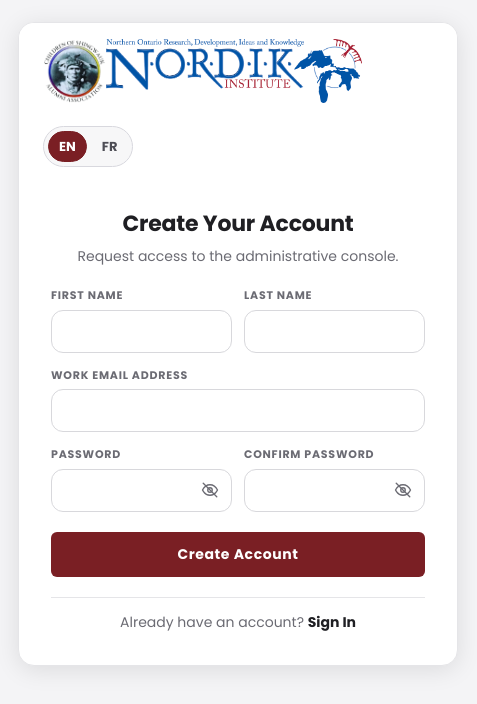
Test: SignupPage › shows field error when passwords do not match
Type "Jane" into the field labelled "First Name" at (142, 331), box 52,311 -> 231,352
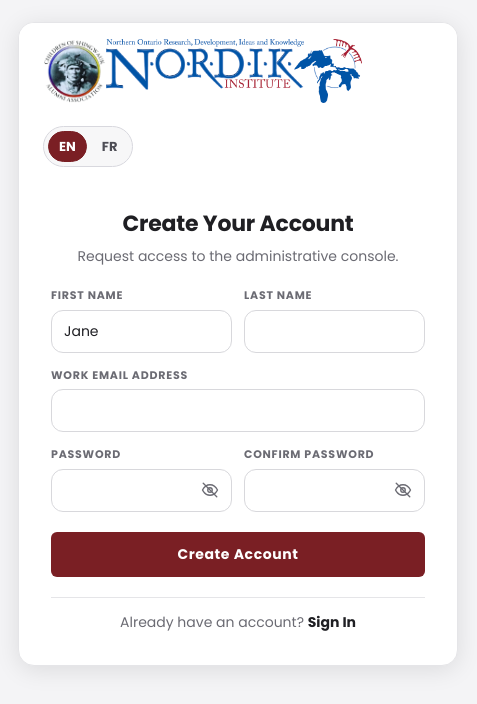
Type "Doe" into the field labelled "Last Name" at (334, 331), box 245,311 -> 424,352
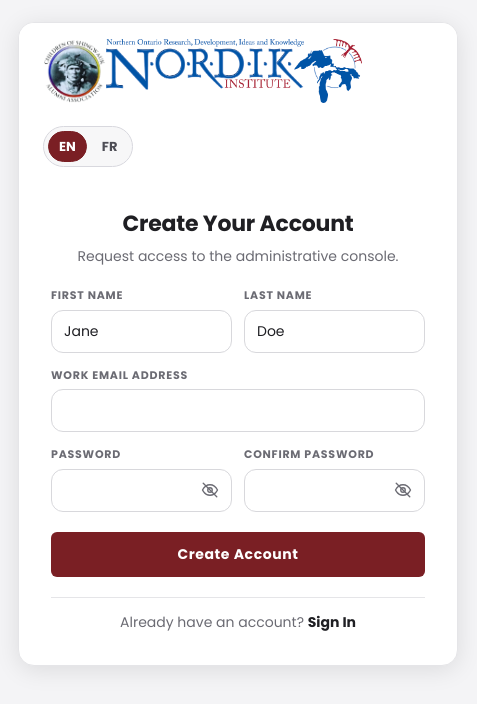
Type "jane.doe@example.com" into the field labelled "Work Email Address" at (238, 411), box 52,390 -> 424,431
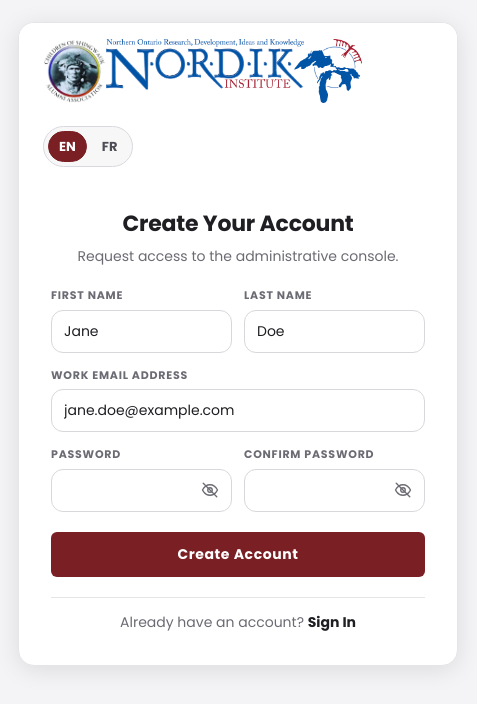
Type "Password123!" into the password field labelled "Password" at (142, 490), box 52,470 -> 231,511
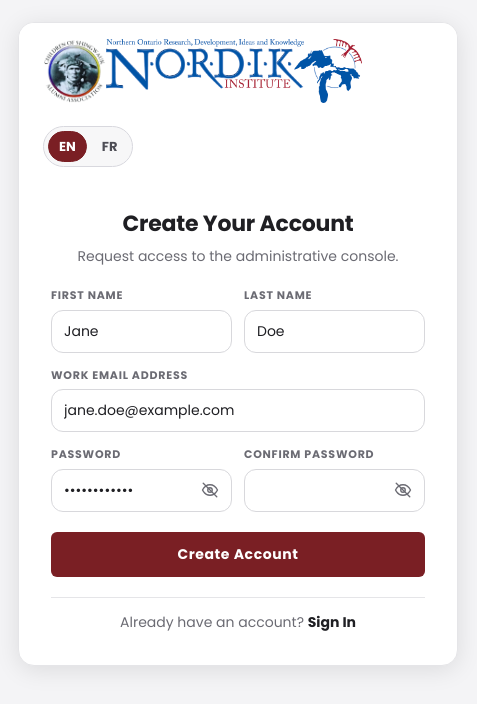
Type "Different123!" into the password field labelled "Confirm Password" at (334, 490), box 245,470 -> 424,511
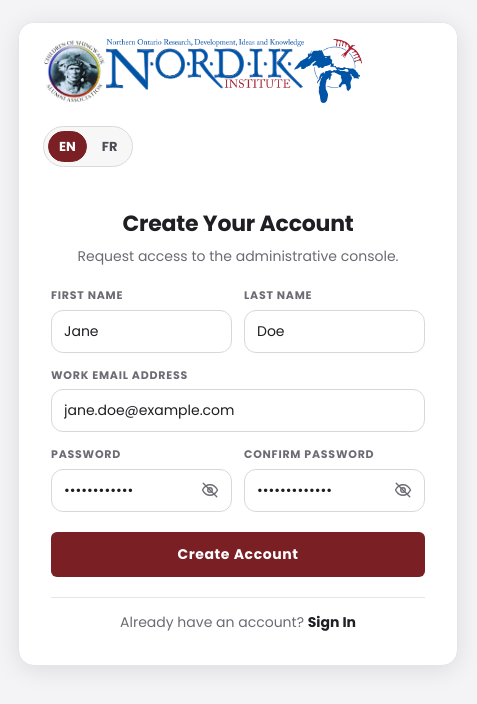
Click the button "Create Account" at (238, 554), box 51,532 -> 425,577
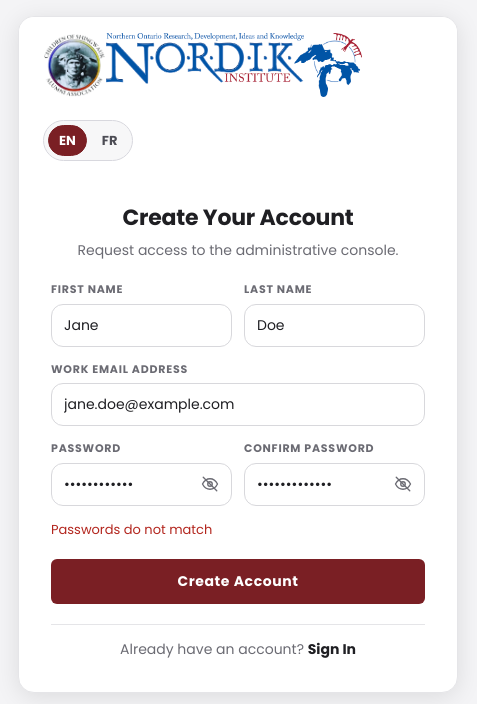
Expected: the text "Passwords do not match" is shown, 51,520 -> 212,538
